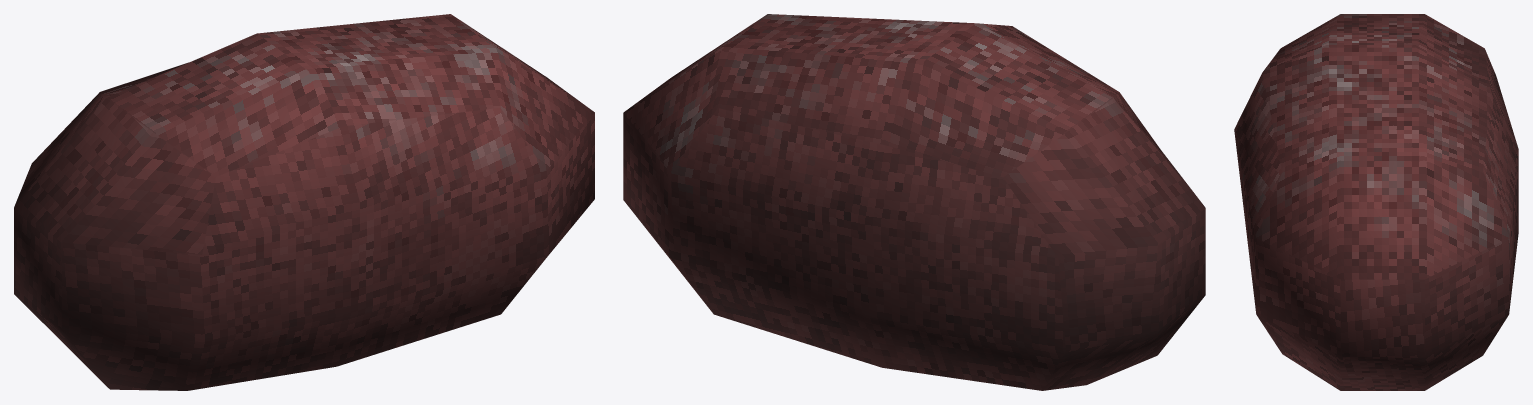
File: KysokMeat.glb
3 views of the same model, side by side, from view 1: azimuth 30°, elevation 25°; view 2: azimuth 150°, elevation 25°; view 3: azimuth 270°, elevation 25° (orthographic). The views are drawn at different scales.
Parts seen in each view (by area): view 1: Cube; view 2: Cube; view 3: Cube.
Boxes of the visible parts, bbox=[...] form: Cube: bbox=[14, 14, 594, 390]; Cube: bbox=[623, 14, 1205, 390]; Cube: bbox=[1234, 14, 1518, 390].
Size of the model in its own units: 4.73 by 2.58 by 2.49.
Materials: 1 (1 with a texture image).
